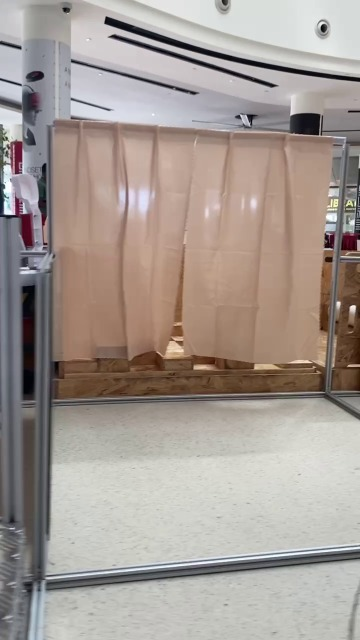curtain: (54, 115, 342, 397)
